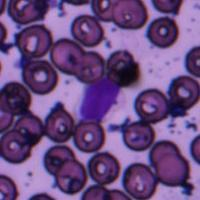L: (76, 74, 123, 123)
